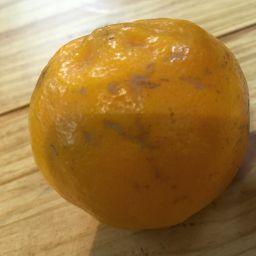Unripe: (29, 17, 249, 229)
